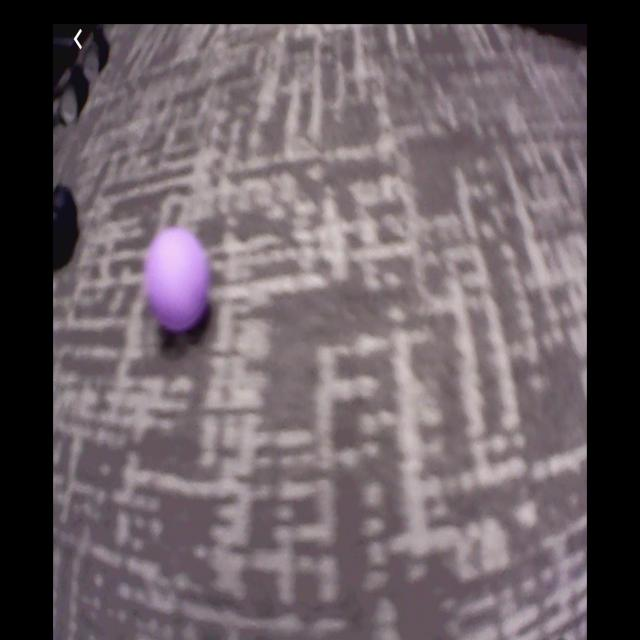ball: (146, 231, 210, 329)
